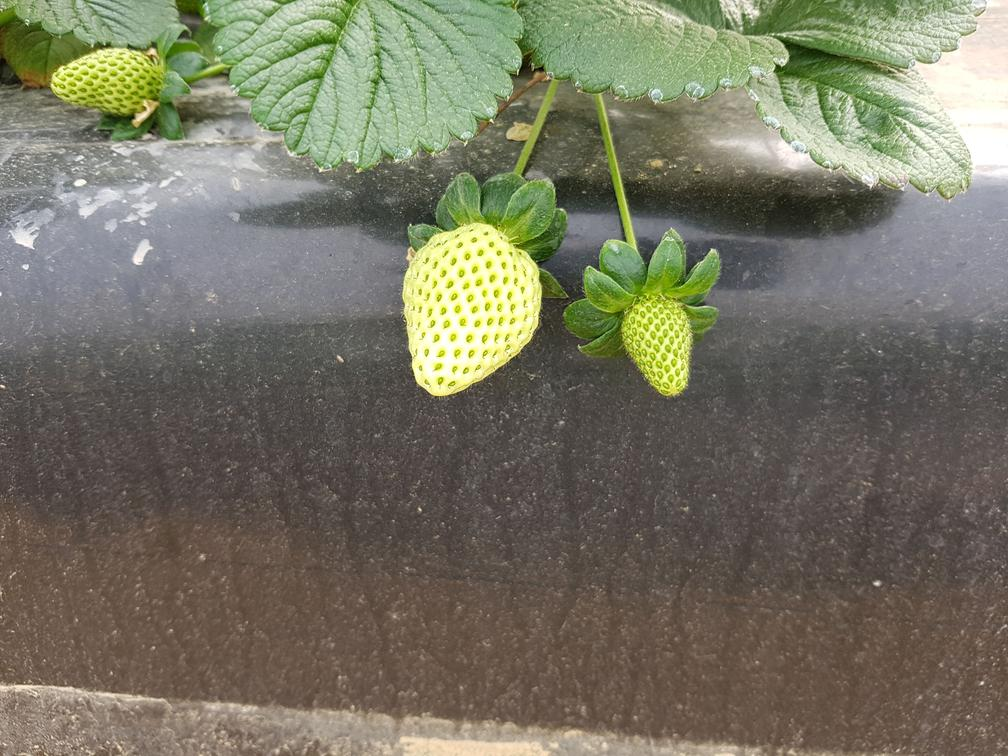Unripe: (398, 224, 547, 401), (48, 41, 166, 118), (619, 290, 697, 404)
